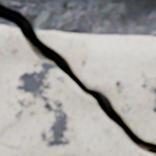broken_brick: (0, 25, 155, 155), (36, 31, 155, 142)
crack: (0, 1, 155, 153)
